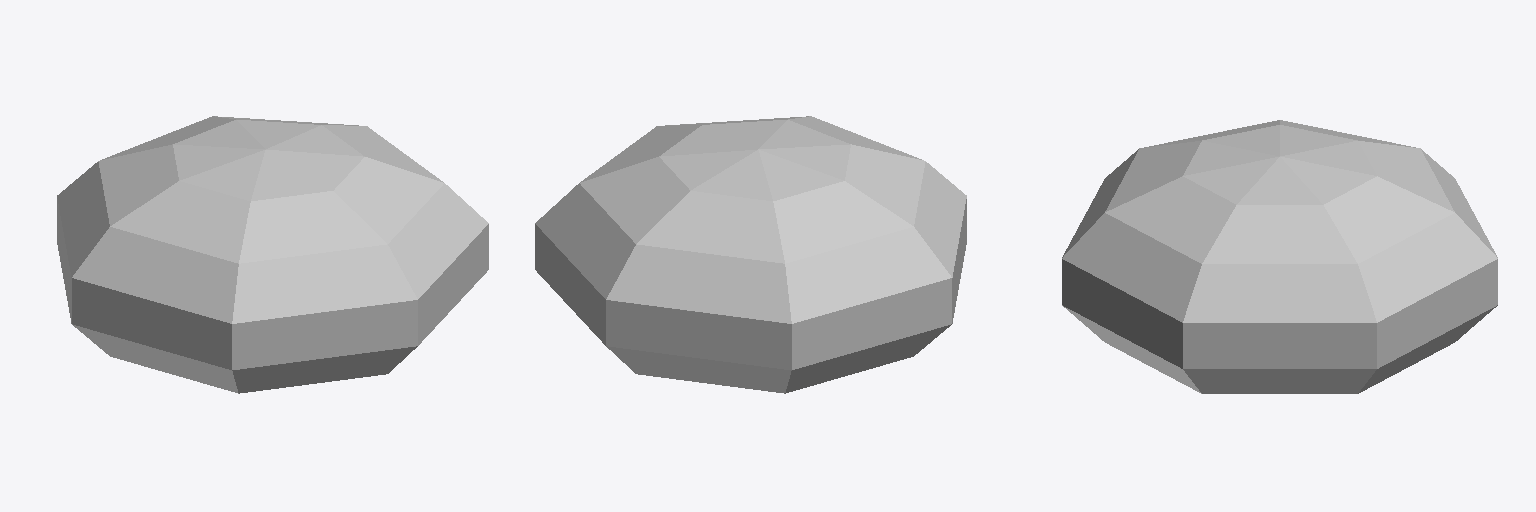
Rendered from sphere_simple.obj.
The picture shows the model from 3 angles: view 1: azimuth 30°, elevation 25°; view 2: azimuth 150°, elevation 25°; view 3: azimuth 270°, elevation 25°; orthographic projection.
Parts seen in each view (by area): view 1: Sphere; view 2: Sphere; view 3: Sphere.
Boxes of the visible parts, x1,y1,x2,y2 form: Sphere: [57, 116, 488, 393]; Sphere: [535, 116, 966, 393]; Sphere: [1062, 120, 1497, 393].
Bounding box in the file's own units: 1.39 × 0.75 × 1.43.